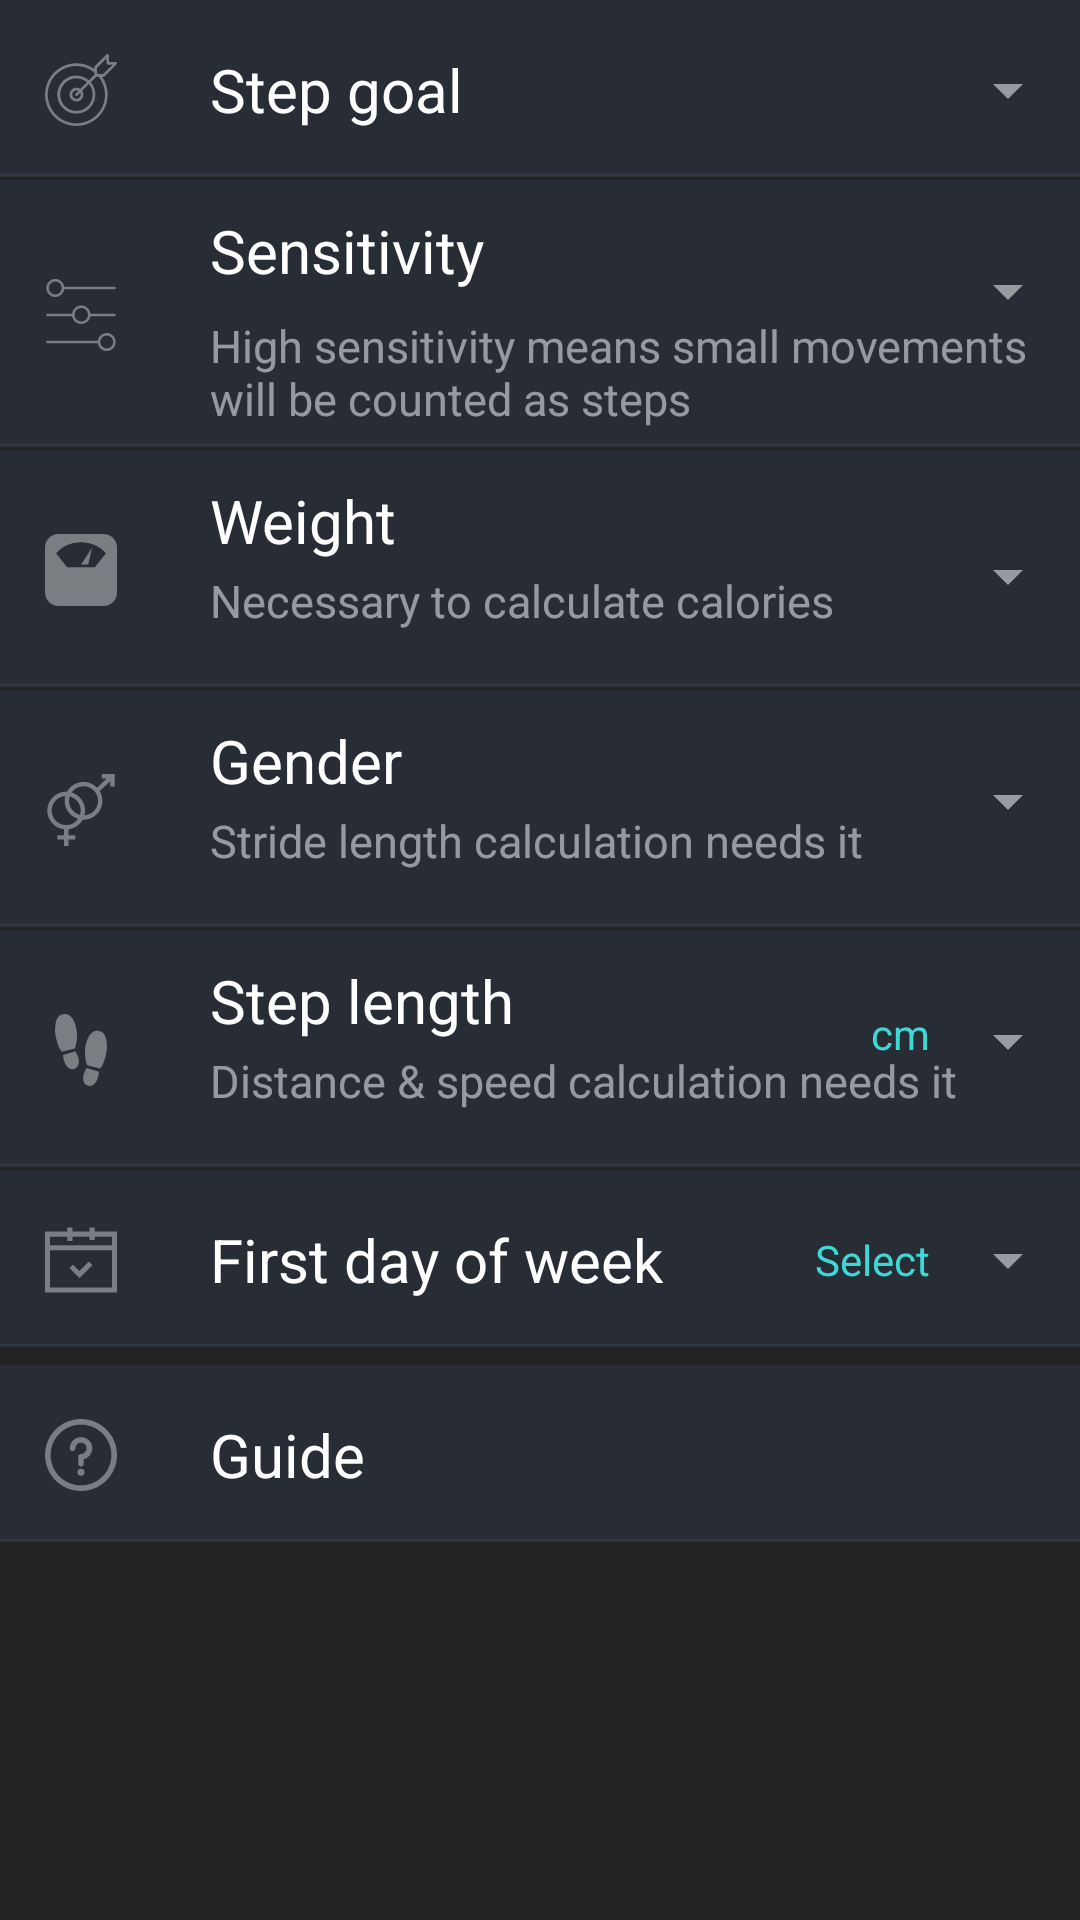

Icons on this 1080 x 1920 Android screen, each with the point to tap as (x=x, y=y):
controls: (x=81, y=315)
date start: (x=81, y=1260)
footstep: (x=81, y=1050)
target: (x=81, y=90)
